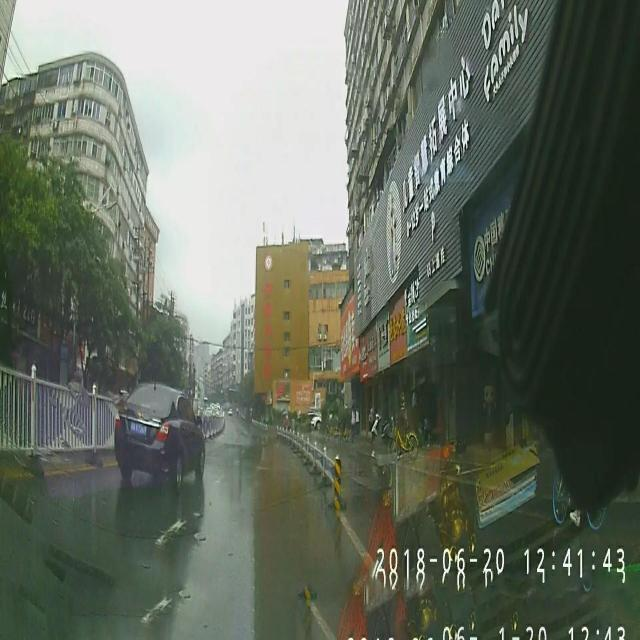car: (114, 382, 206, 484)
